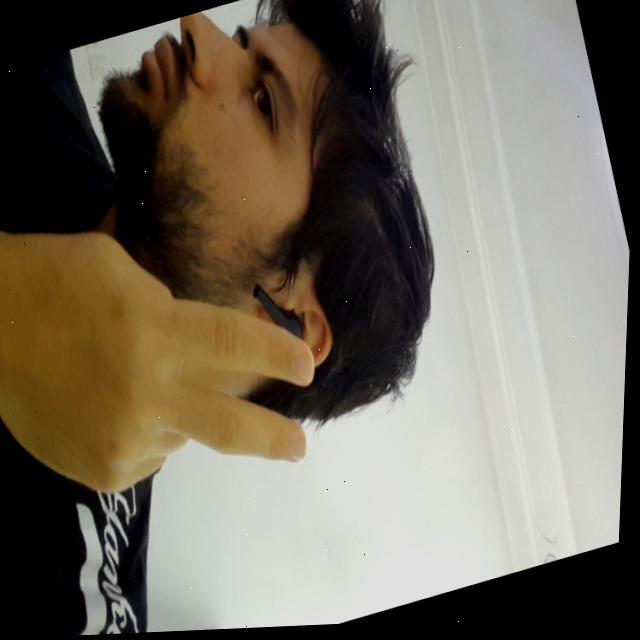Head: (56, 0, 492, 472)
Two: (0, 144, 347, 546)
